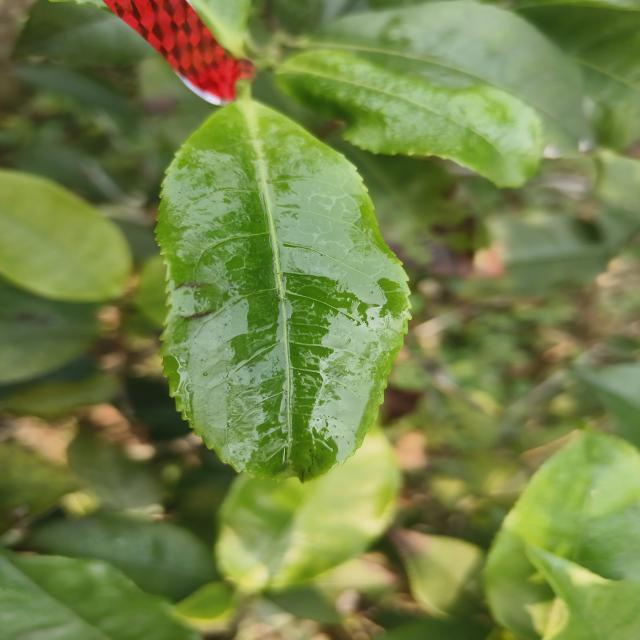Leaf: (156, 92, 410, 482), (311, 0, 590, 151), (276, 49, 541, 187), (483, 432, 640, 640), (216, 429, 401, 591), (336, 143, 481, 276), (0, 169, 132, 303), (0, 551, 197, 640), (30, 514, 217, 601), (0, 279, 99, 384), (14, 0, 155, 67), (489, 211, 605, 292), (67, 423, 160, 511), (14, 64, 139, 121)
